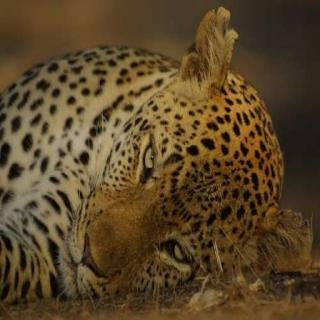Leopard: (6, 22, 299, 312)
